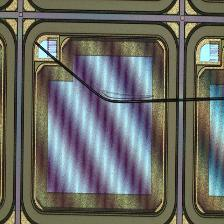SCRATCH: (30, 38, 224, 108)
